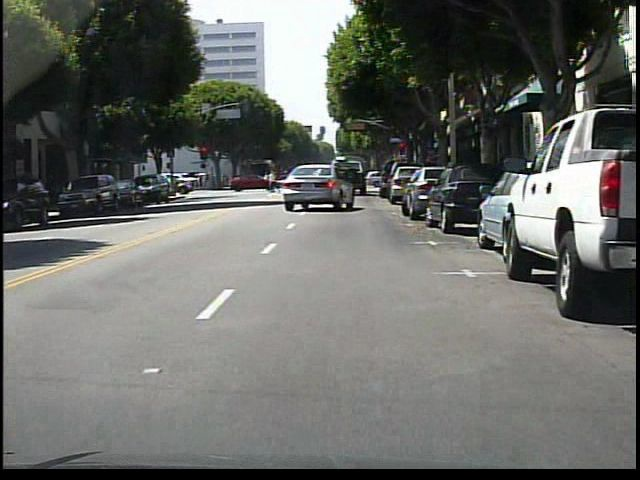person: (268, 170, 279, 194), (290, 167, 300, 193), (264, 172, 270, 189)
